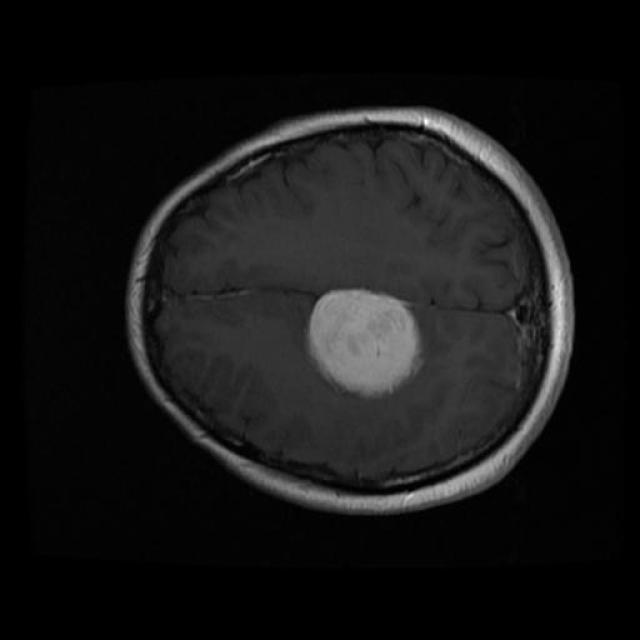Meningioma: (308, 289, 421, 397)
